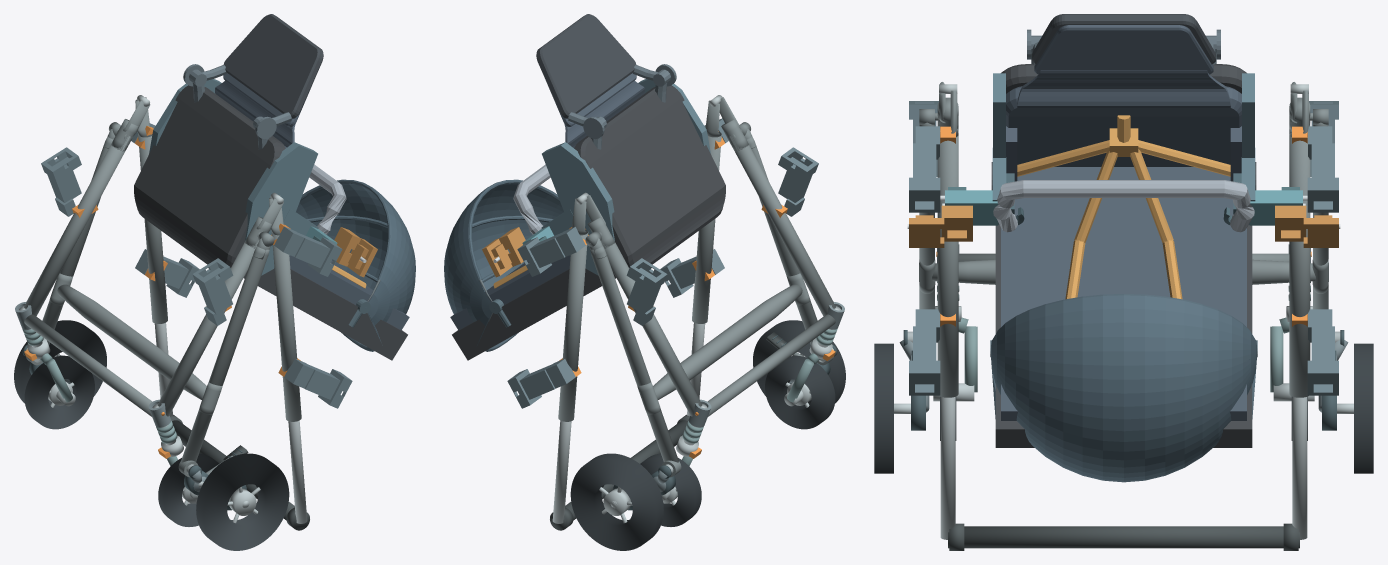
Rendered from S05_w650_state3_wheel_S.glb.
The picture shows the model from 3 angles, left to right: view 1: azimuth 30°, elevation 25°; view 2: azimuth 150°, elevation 25°; view 3: azimuth 270°, elevation 25°; orthographic projection. The views are drawn at different scales.
Visible parts, largest first — view 1: S05_Cabin, RL_tire.008, S05_Cabin_Mount_M, FR_tire.008, V46_rearbar.009, main_lower_1.009, V46_rear_leg_-1.009, main_upper_-1.009, main_lower_-1.009, front_fixed_round_tube.008, RR_tire.008, main_upper_1.009 (+13 smaller); view 2: S05_Cabin, RR_tire.008, S05_Cabin_Mount_M, FL_tire.008, V46_rearbar.009, main_lower_-1.009, V46_rear_leg_1.009, main_upper_1.009, main_lower_1.009, front_fixed_round_tube.008, FR_tire.008, main_upper_-1.009 (+14 smaller); view 3: S05_Cabin, round_handle.008, S05_Cabin_Mount_M, main_upper_1.009, main_upper_-1.009, RL_tire.008, RR_tire.008, Universal_Cabin_Receiver_M_-1, Universal_Cabin_Receiver_M_1, Universal_Cabin_Receiver_H_1, Universal_Cabin_Receiver_H_-1, D02_WideAdapter_M_-1 (+9 smaller).
Part boxes in pixels (<box>): S05_Cabin: <box>134,14,415,360</box>; RL_tire.008: <box>196,453,289,550</box>; S05_Cabin_Mount_M: <box>149,79,337,275</box>; FR_tire.008: <box>24,355,94,429</box>; V46_rearbar.009: <box>57,284,206,399</box>; main_lower_1.009: <box>24,136,130,316</box>; V46_rear_leg_-1.009: <box>181,246,269,462</box>; main_upper_-1.009: <box>271,232,301,421</box>; main_lower_-1.009: <box>157,240,258,416</box>; front_fixed_round_tube.008: <box>24,314,152,416</box>; RR_tire.008: <box>14,320,106,405</box>; main_upper_1.009: <box>138,134,167,323</box>; S05_Cabin: <box>444,14,725,360</box>; RR_tire.008: <box>570,453,663,550</box>; S05_Cabin_Mount_M: <box>522,79,710,275</box>; FL_tire.008: <box>765,355,835,429</box>; V46_rearbar.009: <box>653,284,802,399</box>; main_lower_-1.009: <box>729,136,835,316</box>; V46_rear_leg_1.009: <box>590,246,678,462</box>; main_upper_1.009: <box>558,232,588,421</box>; main_lower_1.009: <box>601,240,702,416</box>; front_fixed_round_tube.008: <box>707,314,835,416</box>; FR_tire.008: <box>640,453,701,526</box>; main_upper_-1.009: <box>692,134,721,323</box>; S05_Cabin: <box>990,14,1257,482</box>; round_handle.008: <box>948,526,1299,548</box>; S05_Cabin_Mount_M: <box>940,73,1307,225</box>; main_upper_1.009: <box>1289,135,1310,397</box>; main_upper_-1.009: <box>937,135,958,397</box>; RL_tire.008: <box>874,343,893,473</box>; RR_tire.008: <box>1354,343,1373,473</box>; Universal_Cabin_Receiver_M_-1: <box>909,126,940,212</box>; Universal_Cabin_Receiver_M_1: <box>1307,126,1338,212</box>; Universal_Cabin_Receiver_H_1: <box>1307,309,1338,395</box>; Universal_Cabin_Receiver_H_-1: <box>909,309,940,395</box>; D02_WideAdapter_M_-1: <box>907,205,972,247</box>.
Bounding box in the file's own units: 0.7456 × 0.9719 × 0.766.
